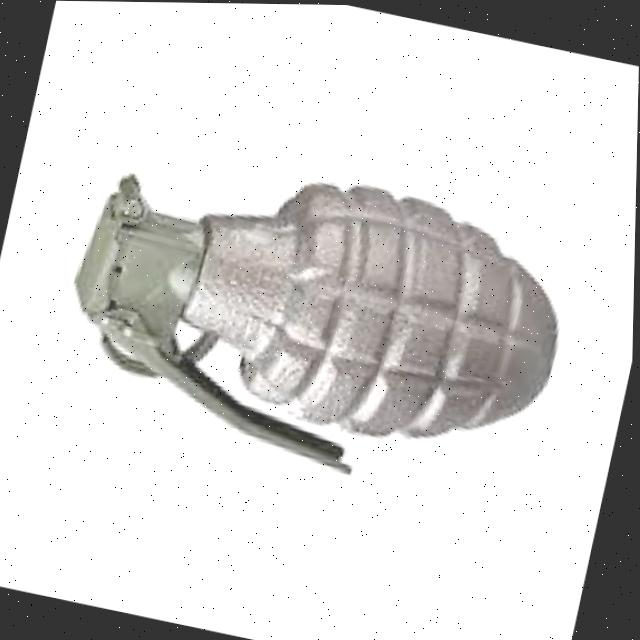grenade: (34, 97, 602, 525)
